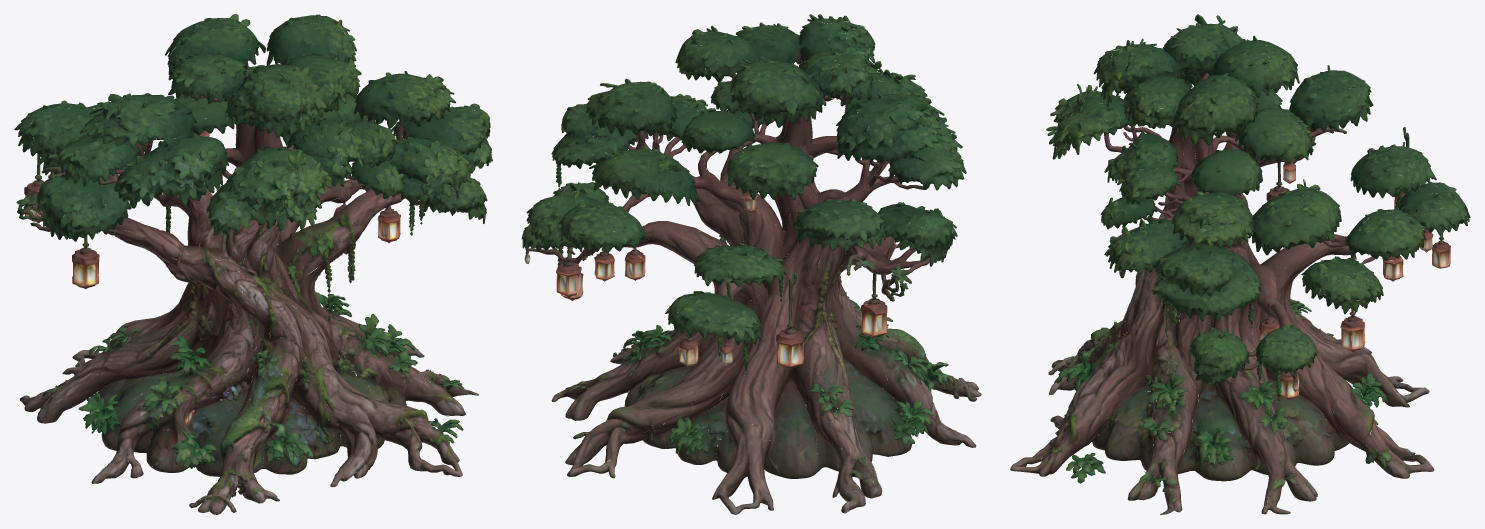
Rendered from anctree.glb.
The picture shows the model from 3 angles, left to right: view 1: azimuth 30°, elevation 25°; view 2: azimuth 150°, elevation 25°; view 3: azimuth 270°, elevation 25°; orthographic projection. The views are drawn at different scales.
Visible parts, largest first — view 1: tripo_node_d5f8be57-208e-48da-b0c1-341d32da4c5a; view 2: tripo_node_d5f8be57-208e-48da-b0c1-341d32da4c5a; view 3: tripo_node_d5f8be57-208e-48da-b0c1-341d32da4c5a.
Part boxes in pixels (bbox=[...]): tripo_node_d5f8be57-208e-48da-b0c1-341d32da4c5a: bbox=[14, 14, 492, 514]; tripo_node_d5f8be57-208e-48da-b0c1-341d32da4c5a: bbox=[521, 14, 981, 514]; tripo_node_d5f8be57-208e-48da-b0c1-341d32da4c5a: bbox=[1010, 14, 1470, 514].
Size of the model in its own units: 34.64 by 30 by 33.74.
1 material, 1 textured.
